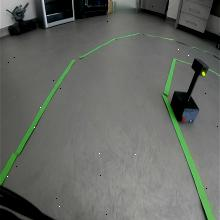green: (191, 57, 209, 77)
